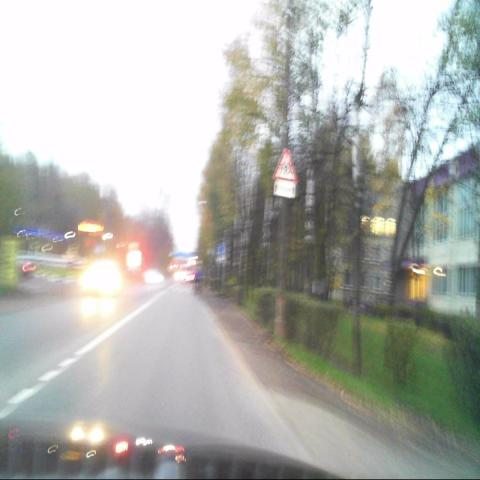8_2_1: (273, 179, 295, 199)
